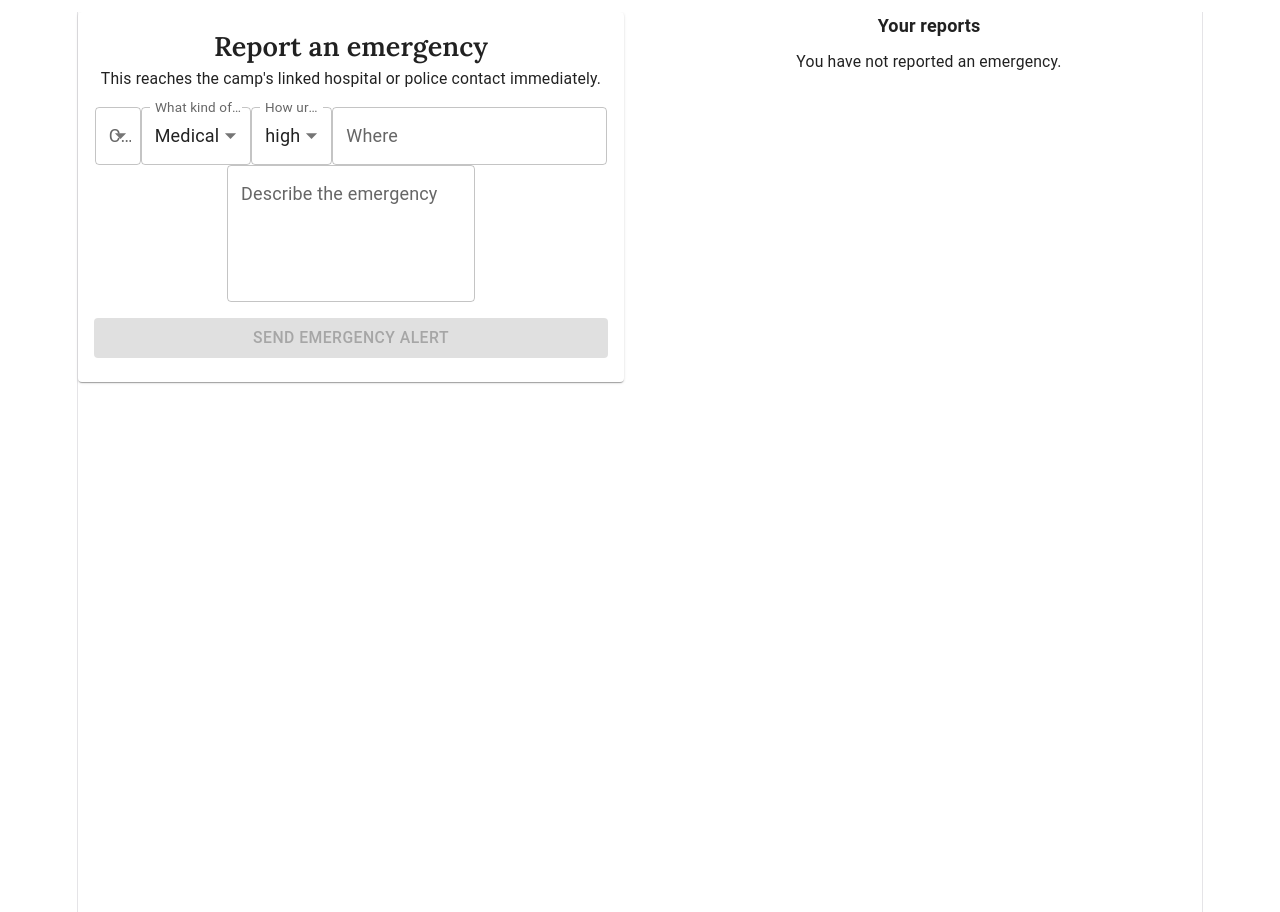
Test case: RaiseSosPage › confirms with the routed contact once sent
Click the dropdown named "camp".
click(118, 136)  # box [95,106,141,165]
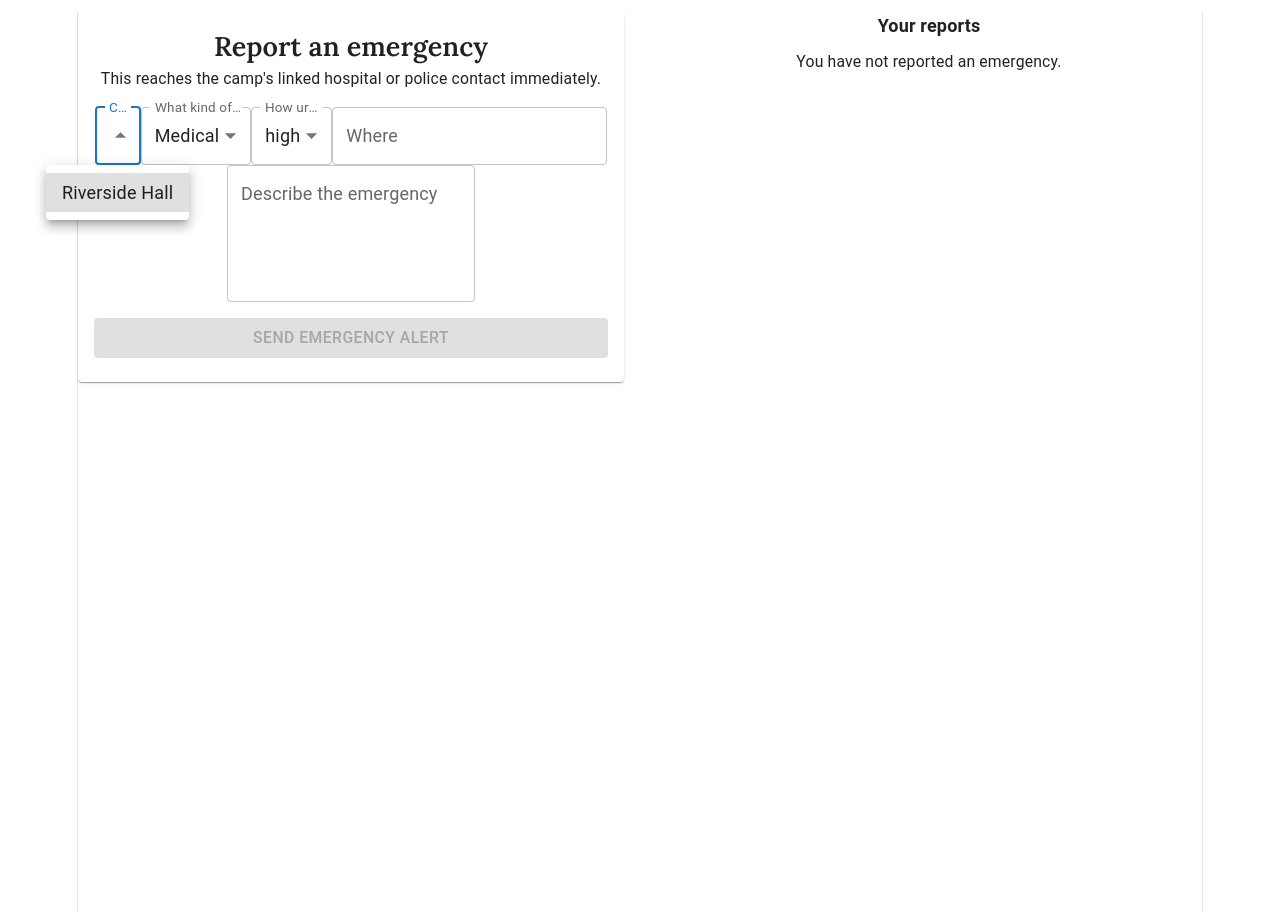
Click the option "Riverside Hall".
click(118, 192)  # box [46,173,189,212]
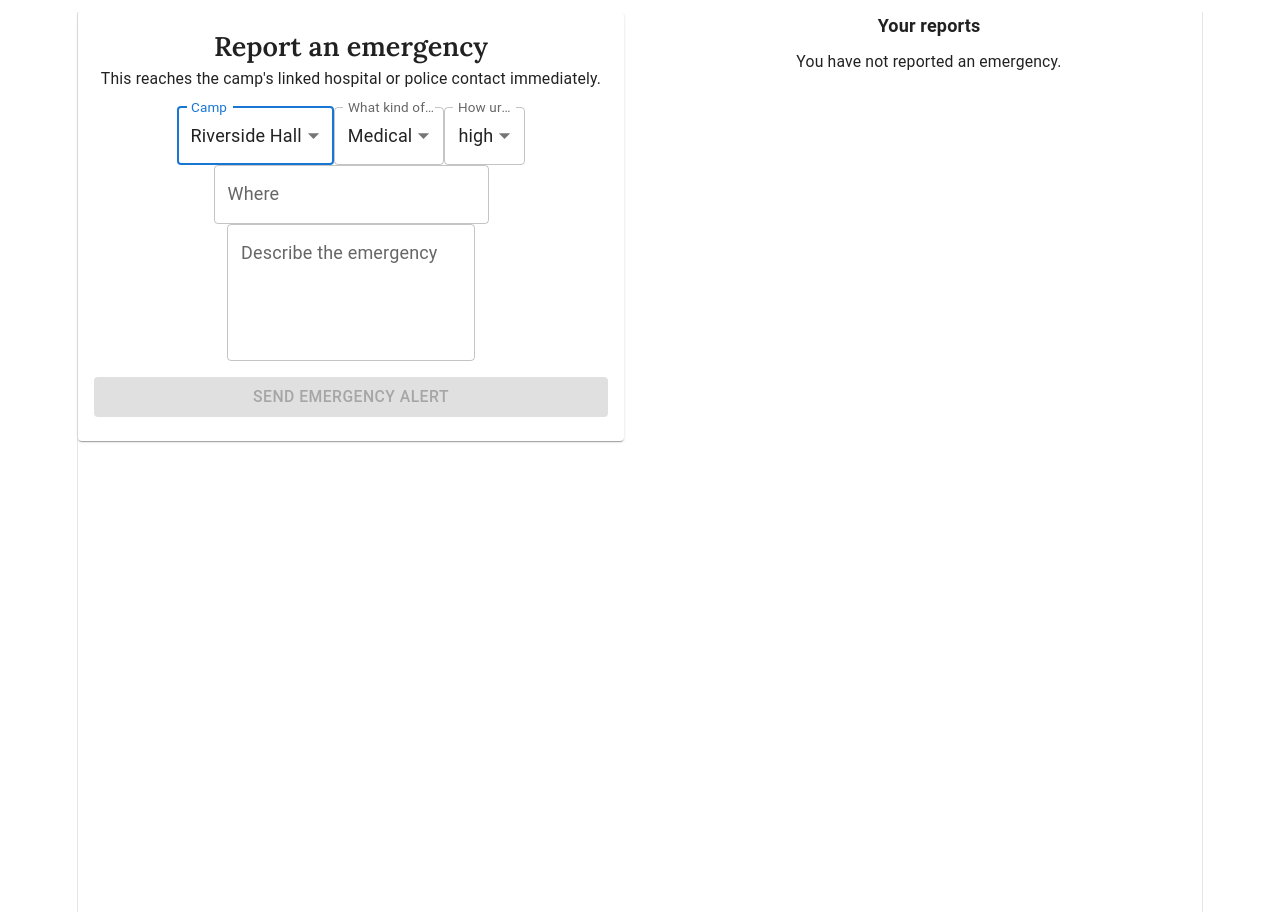
Type "Tent 4" into the field labelled "Where".
click(351, 195); type("Tent 4")  # box [214,165,488,224]
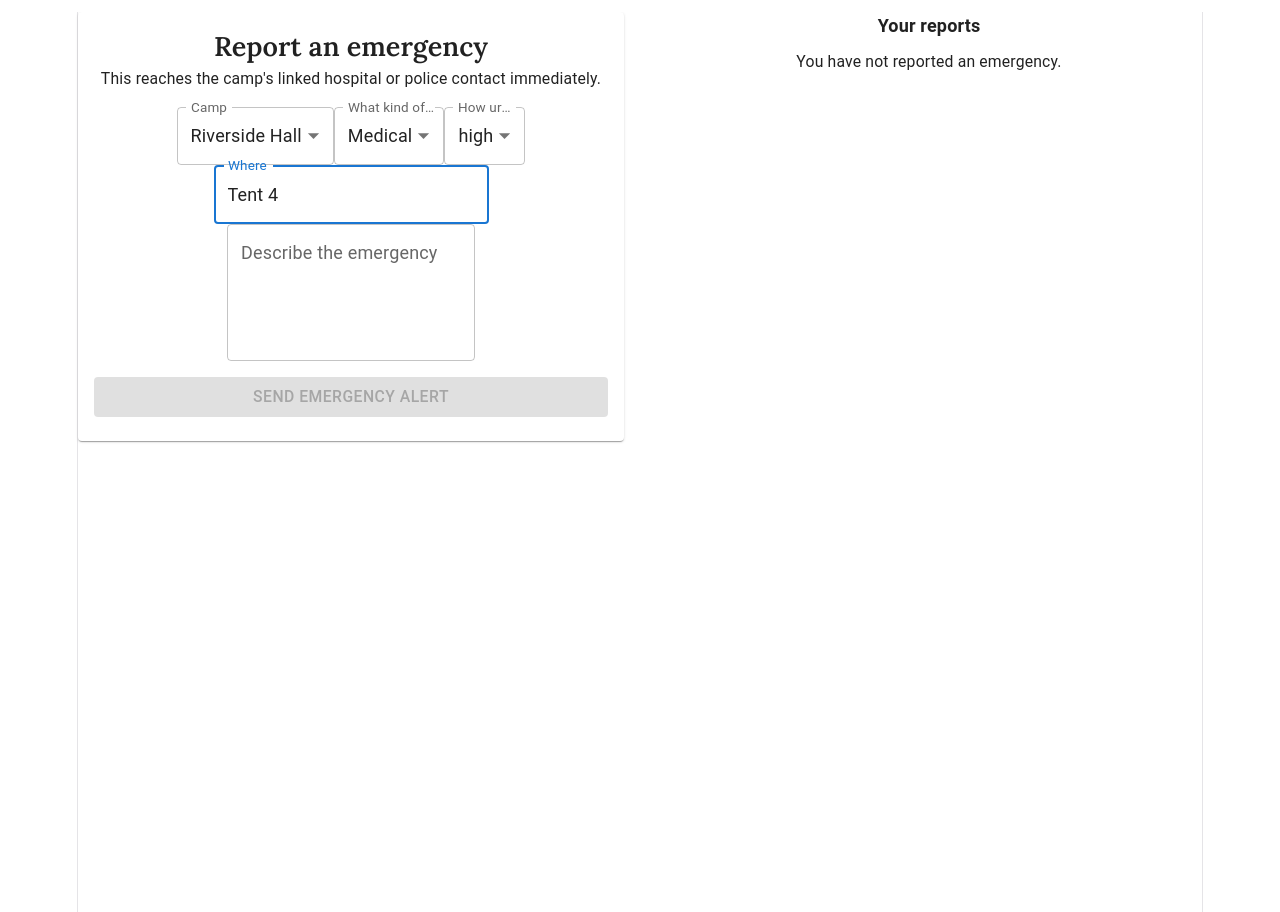
Type "Chest pains, needs help now." into the text box labelled "Describe the emergency".
click(351, 293); type("Chest pains, needs help now.")  # box [241,241,461,345]
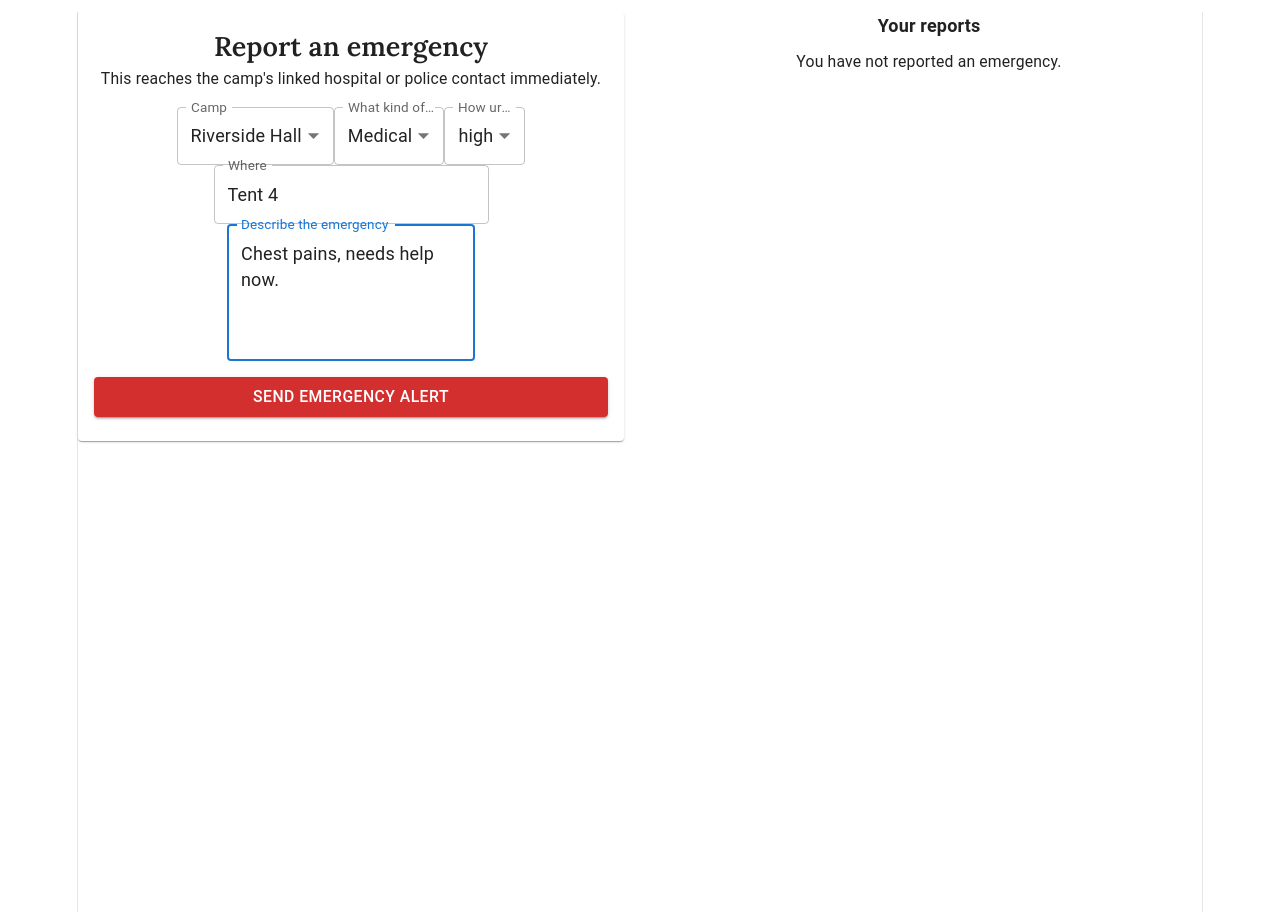
Click the button "Send emergency alert".
click(351, 397)  # box [94,377,608,417]
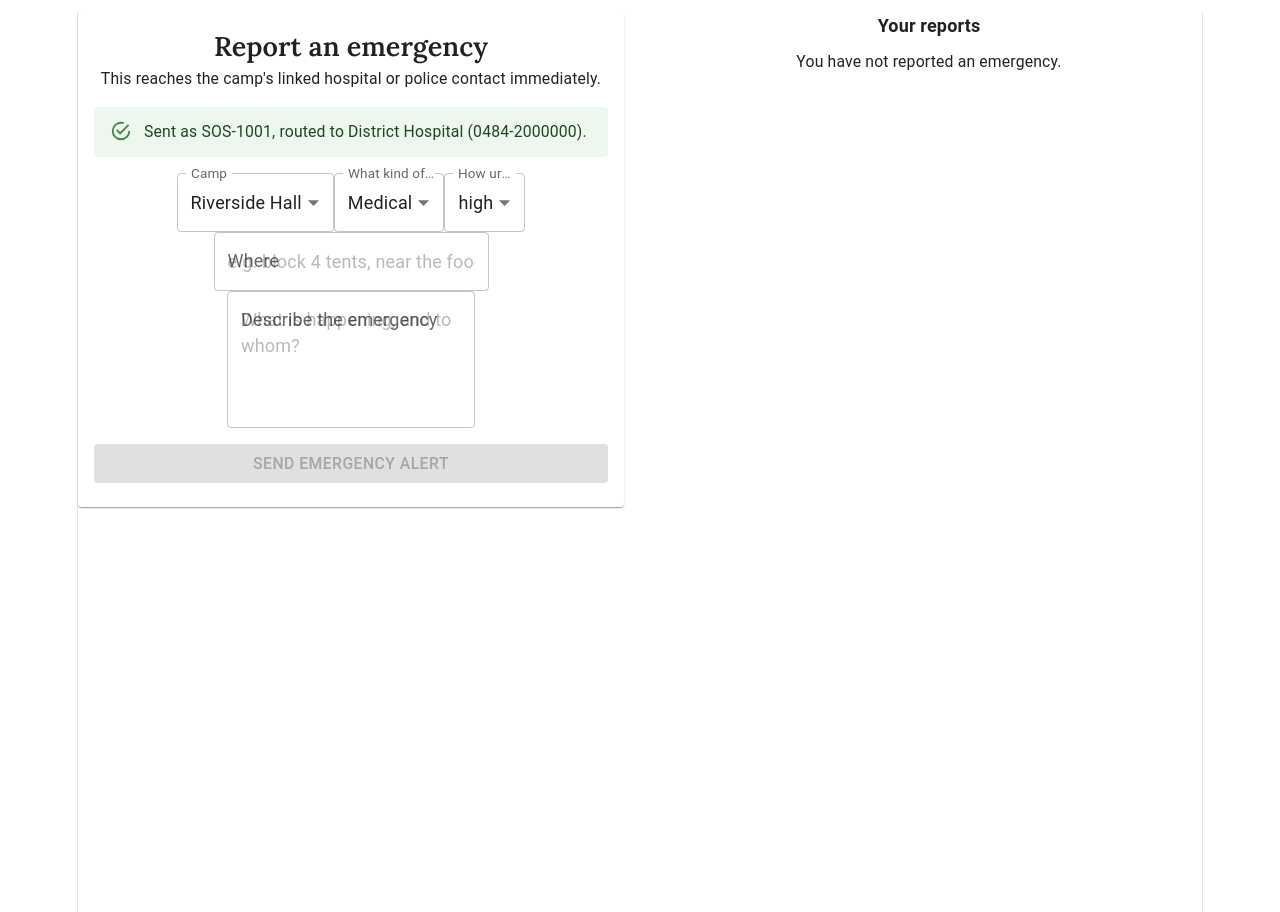
Expected: the text "District Hospital" is shown, [144,122,587,140]
